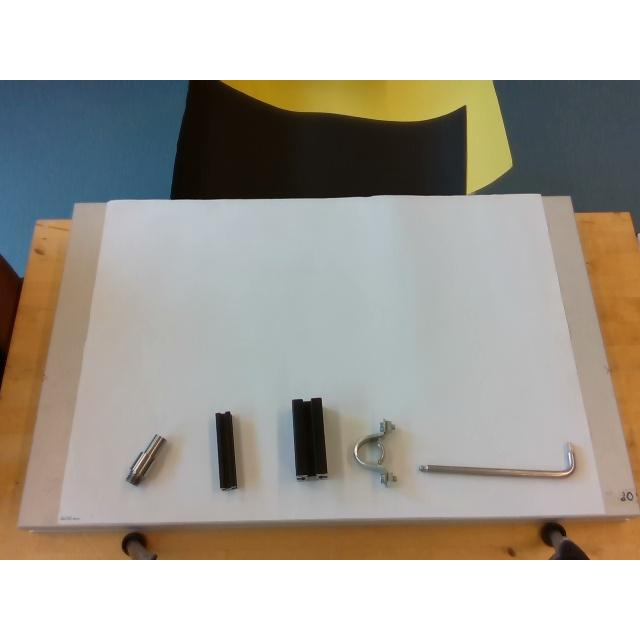AllenKey: (419, 442, 575, 478)
Axis2: (126, 432, 166, 483)
F20_20_B: (215, 411, 237, 489)
Housing: (354, 420, 394, 484)
S40_40_B: (292, 397, 328, 479)
